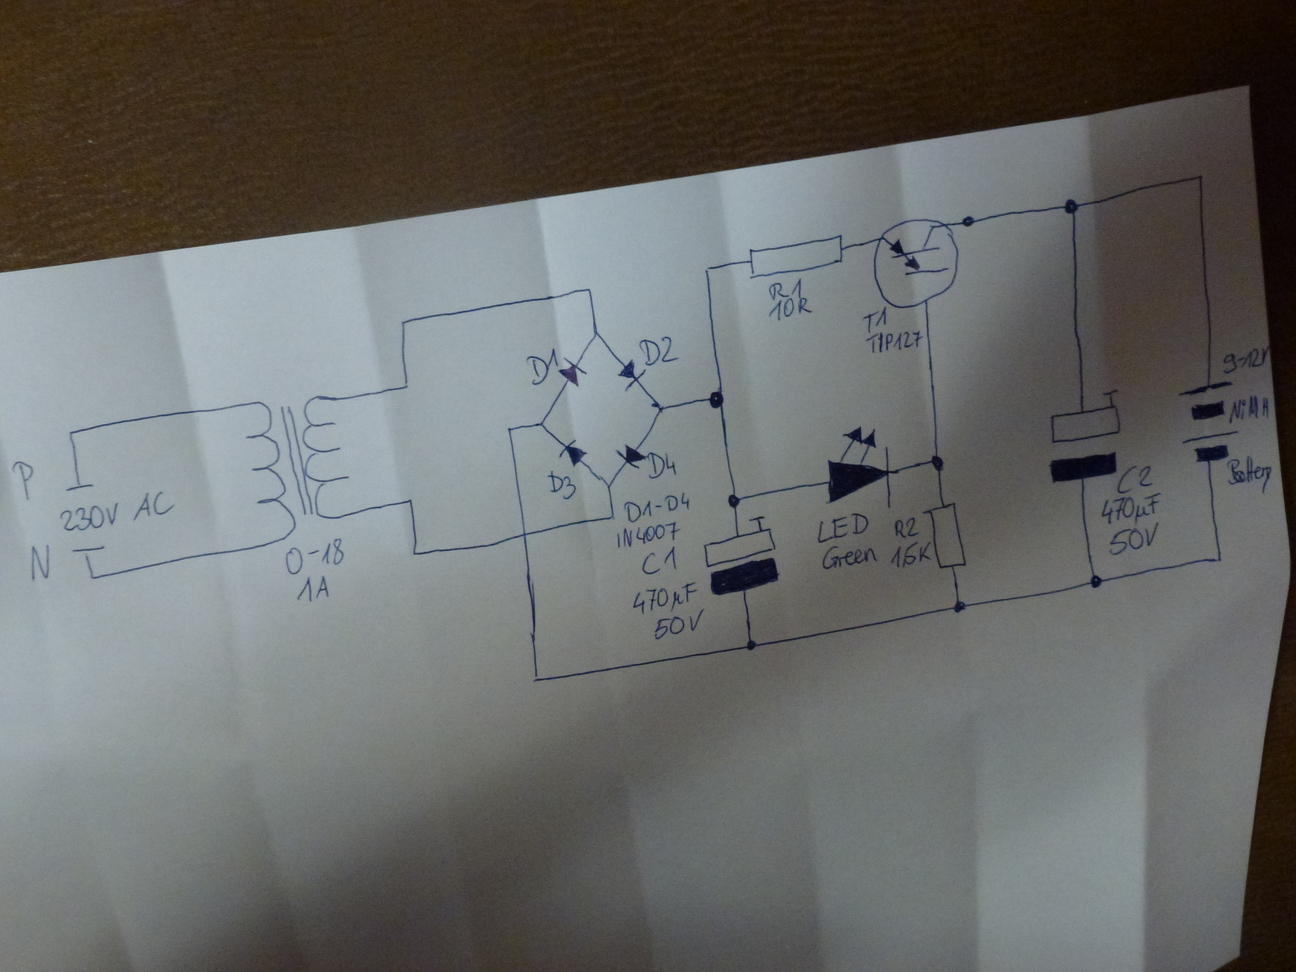capacitor.polarized: (1047, 386, 1125, 485), (702, 514, 783, 599)
crossover: (518, 528, 531, 540)
diode: (613, 357, 644, 392), (556, 437, 591, 468), (554, 354, 587, 386), (613, 441, 648, 470)
diode.light_emitting: (823, 424, 892, 511)
junction: (708, 385, 729, 412), (1060, 195, 1081, 218), (928, 452, 947, 473), (725, 490, 744, 511), (1088, 572, 1104, 590), (64, 426, 80, 442), (951, 598, 966, 614), (396, 315, 411, 331), (701, 262, 715, 278), (744, 637, 758, 652), (651, 400, 666, 414), (86, 571, 100, 584), (404, 495, 417, 508), (399, 379, 412, 392), (582, 284, 596, 296), (407, 546, 421, 558), (536, 418, 547, 430), (1195, 171, 1206, 183), (531, 673, 542, 685), (590, 329, 601, 341), (601, 480, 614, 490), (504, 424, 515, 434), (606, 511, 617, 521), (1213, 554, 1224, 564)
resistor: (743, 234, 849, 277), (924, 501, 968, 569)
terminal: (69, 543, 106, 558), (63, 479, 97, 494)
text: (58, 487, 180, 533), (283, 536, 345, 578), (631, 579, 699, 616), (1097, 491, 1163, 527), (1105, 521, 1160, 558), (614, 520, 682, 550), (652, 606, 707, 642), (815, 511, 870, 546), (628, 491, 691, 521), (819, 542, 889, 569), (864, 323, 923, 354), (1227, 455, 1273, 493), (636, 333, 680, 369), (11, 458, 42, 505), (1222, 345, 1272, 374), (640, 543, 682, 577), (765, 295, 813, 324), (1115, 461, 1155, 495), (1229, 393, 1272, 423), (24, 542, 55, 583), (879, 542, 931, 565), (644, 449, 679, 481), (295, 576, 331, 603), (525, 351, 553, 385), (766, 277, 804, 301), (547, 471, 578, 500), (893, 515, 920, 541), (862, 311, 898, 332)
transformer: (241, 390, 351, 553)
transistor: (871, 211, 963, 311)
voltage.dc: (1177, 379, 1241, 466)
